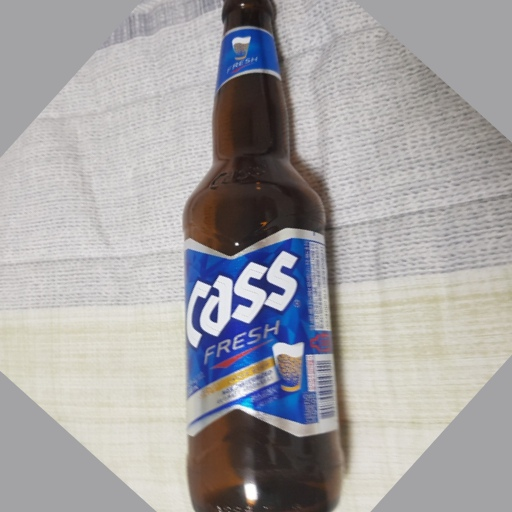Glass_1: (182, 1, 342, 512)
